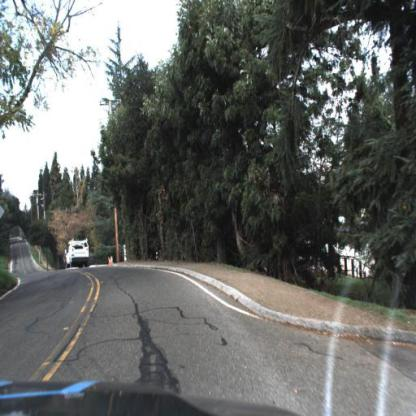car: (59, 236, 93, 272), (65, 241, 90, 267)
